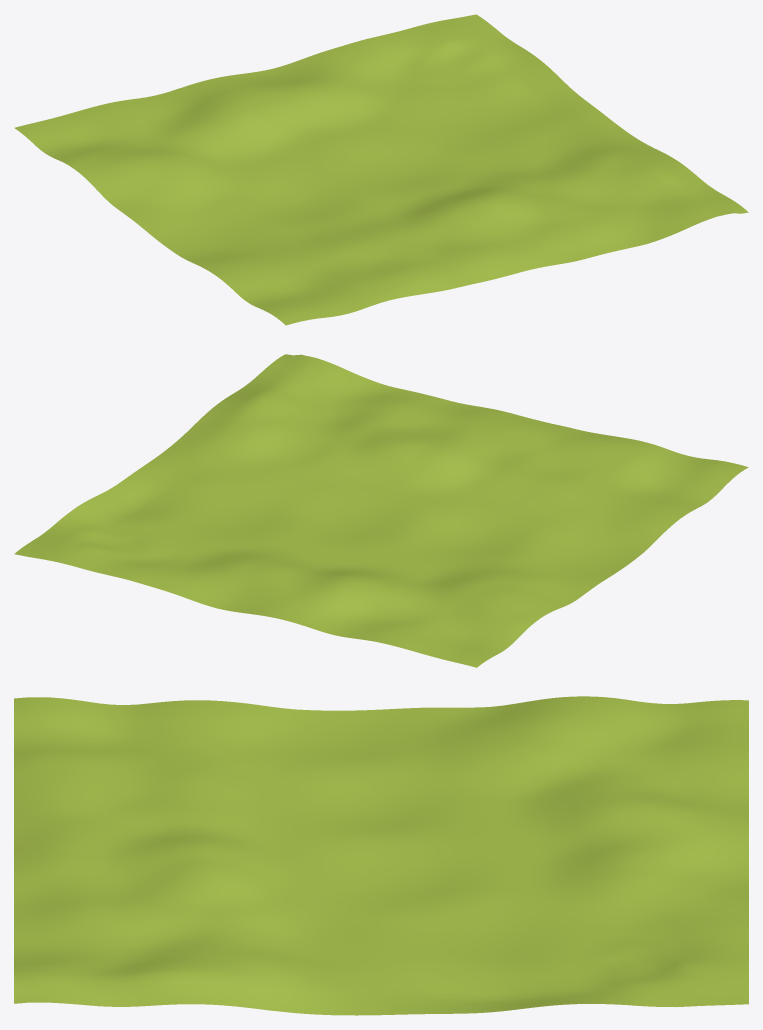
File: carre9.fbx
3 views of the same model, one above another, from view 1: azimuth 30°, elevation 25°; view 2: azimuth 150°, elevation 25°; view 3: azimuth 270°, elevation 25° (orthographic). The views are drawn at different scales.
Visible parts, largest first — view 1: carre9; view 2: carre9; view 3: carre9.
Boxes of the visible parts, x1,y1,x2,y2 form: carre9: [14, 14, 748, 325]; carre9: [14, 354, 748, 667]; carre9: [14, 696, 748, 1015].
Bounding box in the file's own units: 709 × 27.95 × 720.
